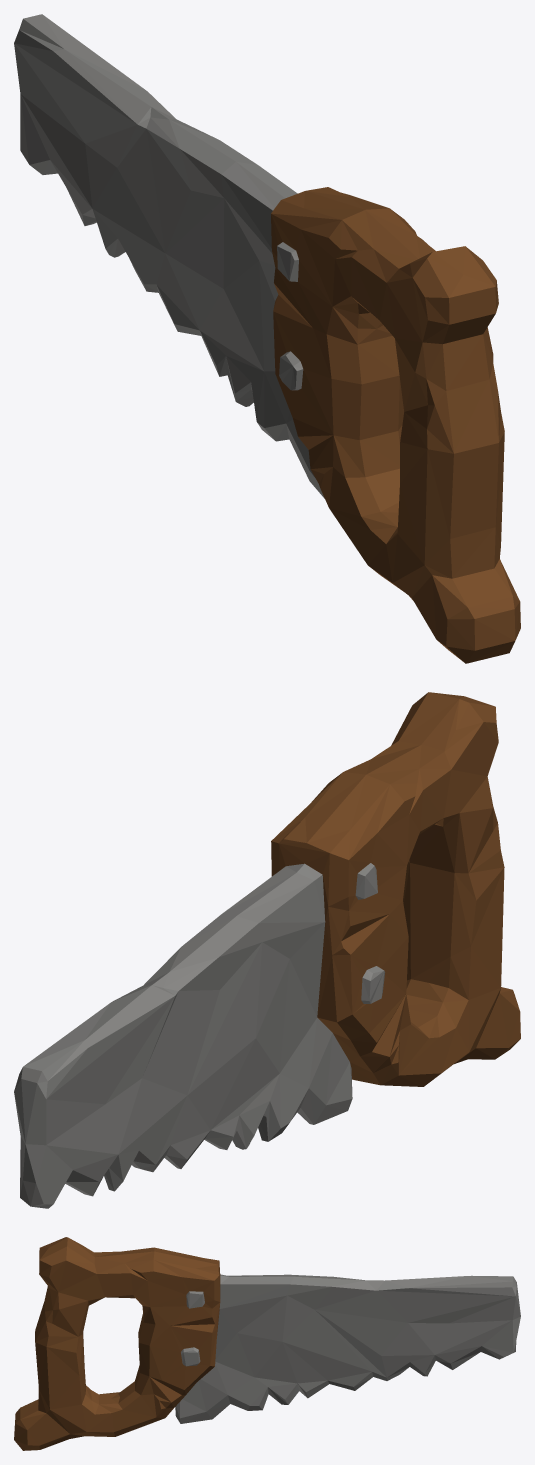
Rendered from HandSaw.fbx.
The picture shows the model from 3 angles, top to bottom: view 1: azimuth 30°, elevation 25°; view 2: azimuth 150°, elevation 25°; view 3: azimuth 270°, elevation 25°; orthographic projection. The views are drawn at different scales.
Visible parts, largest first — view 1: HandSaw; view 2: HandSaw; view 3: HandSaw.
Boxes of the visible parts, left/top/right/bottom form: HandSaw: left=14, top=14, right=520, bottom=663; HandSaw: left=14, top=692, right=520, bottom=1208; HandSaw: left=14, top=1237, right=520, bottom=1450.
Bounding box in the file's own units: 0.0661 × 0.5926 × 0.2635.
